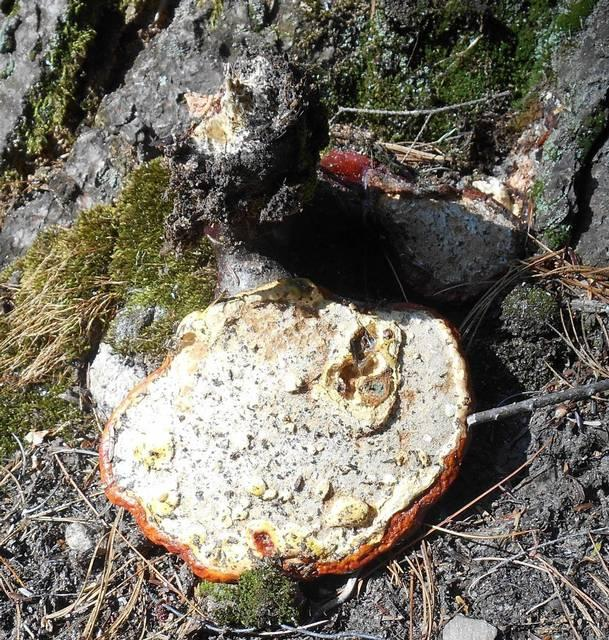poisonous_mushroom: (96, 275, 473, 586)
